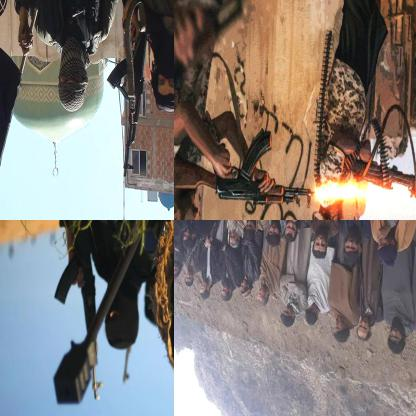rifle: (174, 130, 321, 211), (51, 220, 103, 409), (106, 4, 154, 180), (347, 114, 415, 205)
